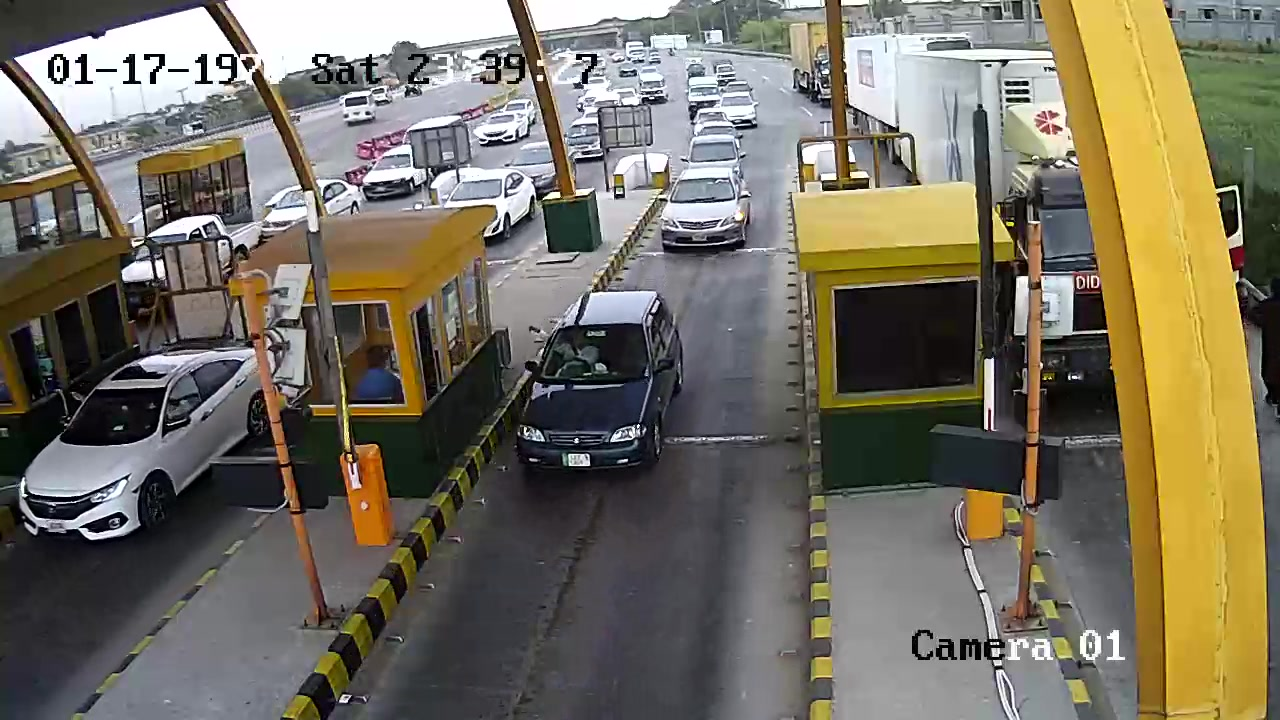F1: (514, 284, 699, 484)
